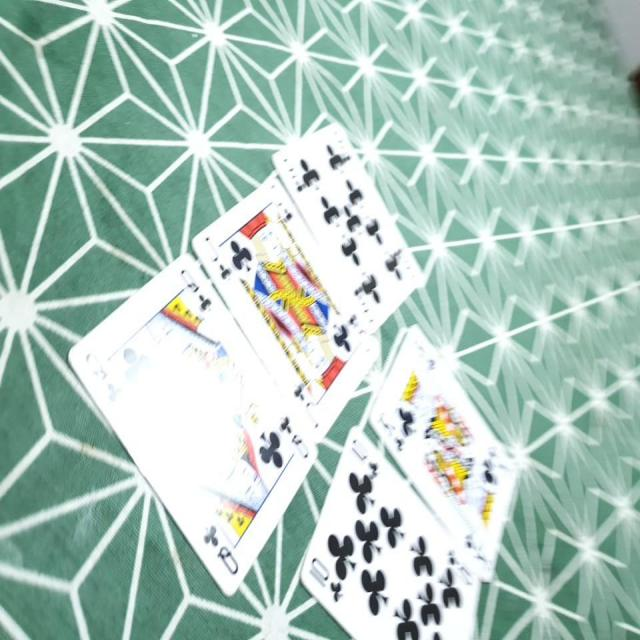10 Trefoils: (298, 423, 483, 640)
9 Trefoils: (272, 120, 422, 327)
J Trefoils: (190, 173, 382, 442)
K Trefoils: (367, 325, 518, 577)
Q Trefoils: (68, 252, 318, 596)
